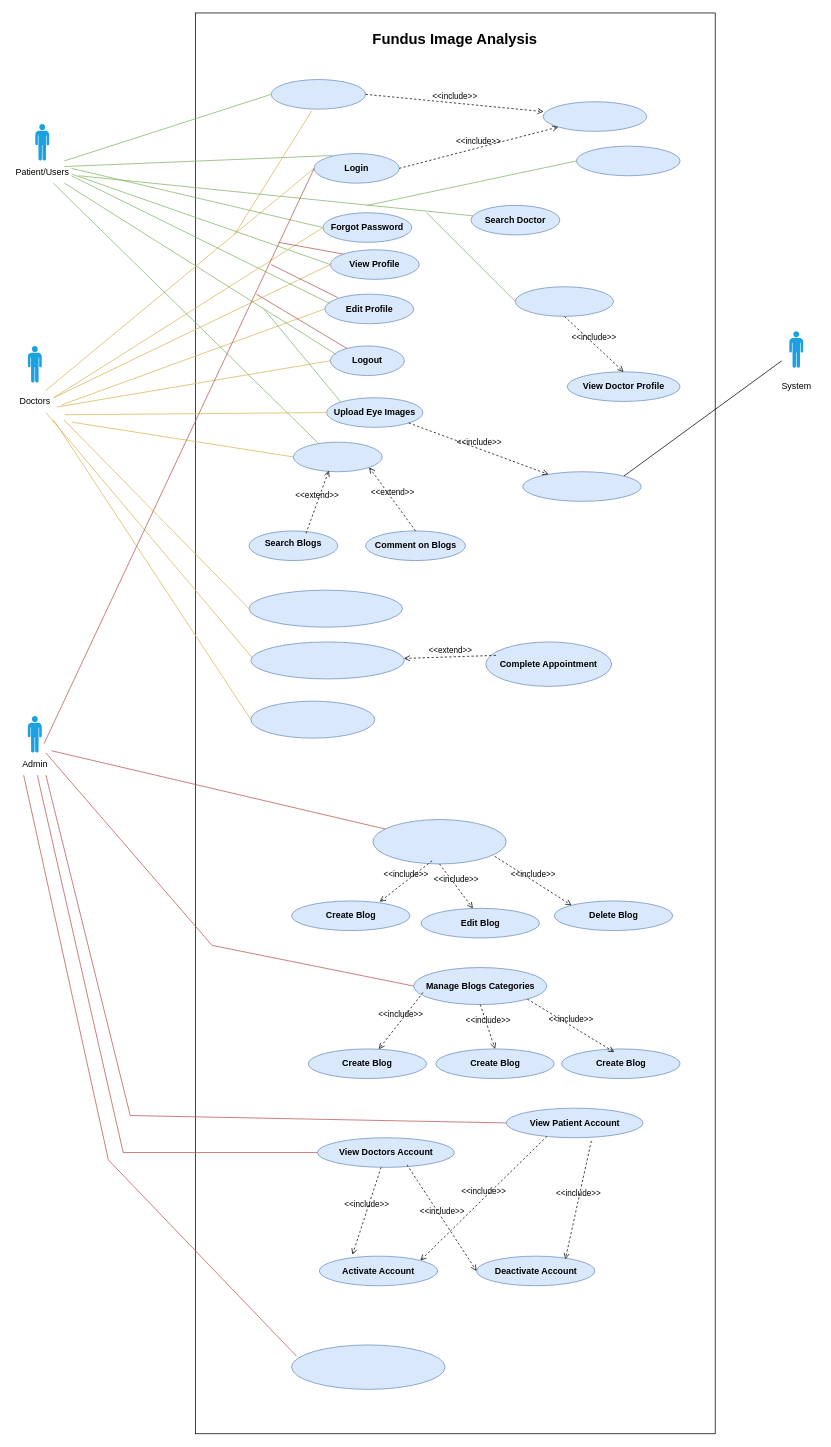
Image size: 831x1447. Some labels were removed from this diagram. Here are the shapes that lost their labels. From the top down, the centre of each, then its label:
(318,94): Register/SignUp
(594,116): Email Verification
(628,160): View Appointments
(564,301): Book Appointment
(337,456): Read Blogs
(581,486): View Diagnosis Report
(325,608): View Pending Appointment
(327,660): View Confirmend Appointment
(312,719): View Patient Profile
(439,841): Manage Blogs
(368,1366): View "Contact Us" Messages
